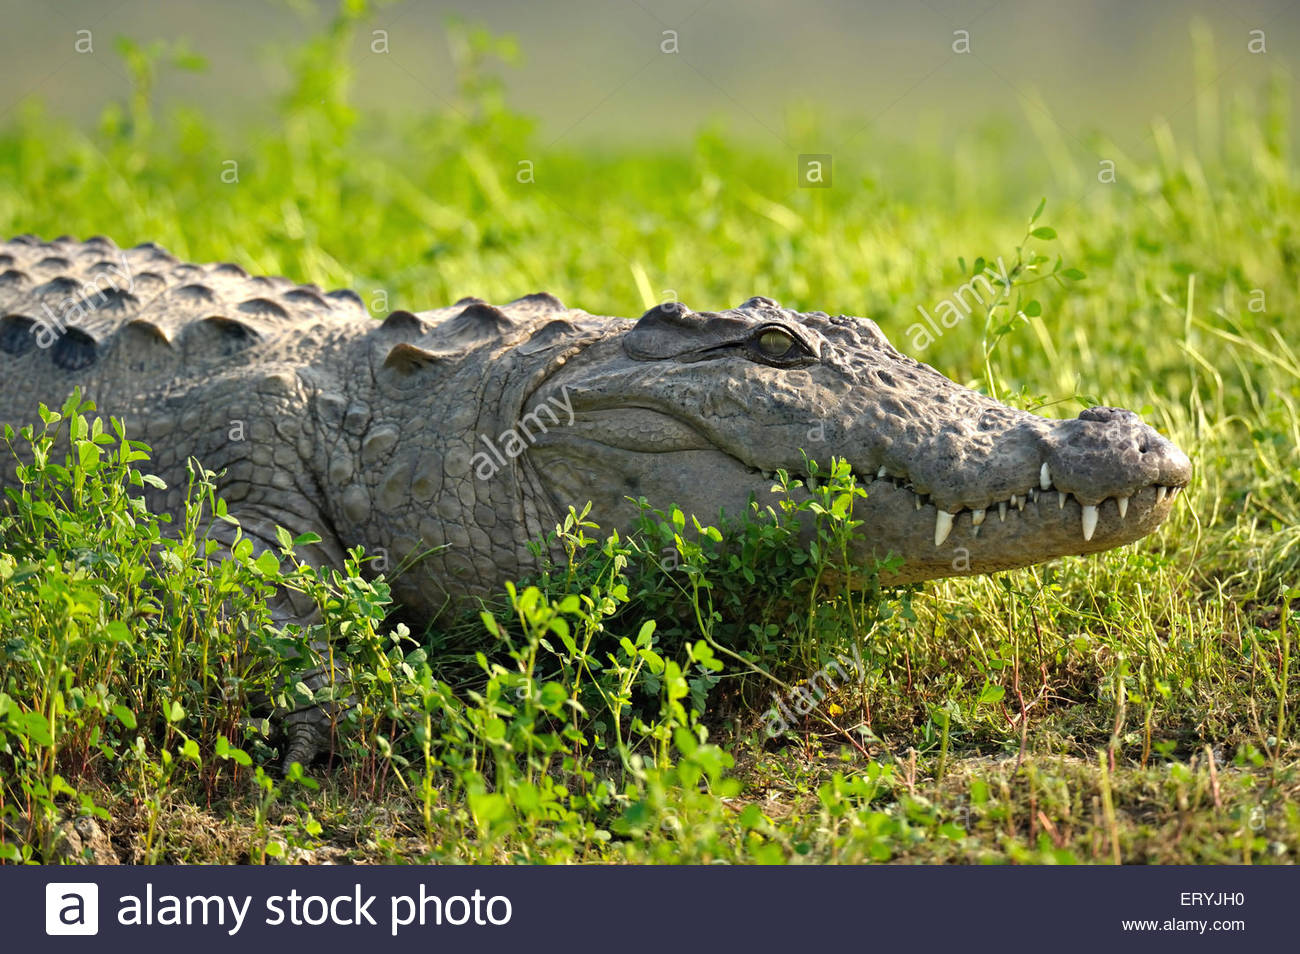Crocodile: (1, 251, 1202, 771)
